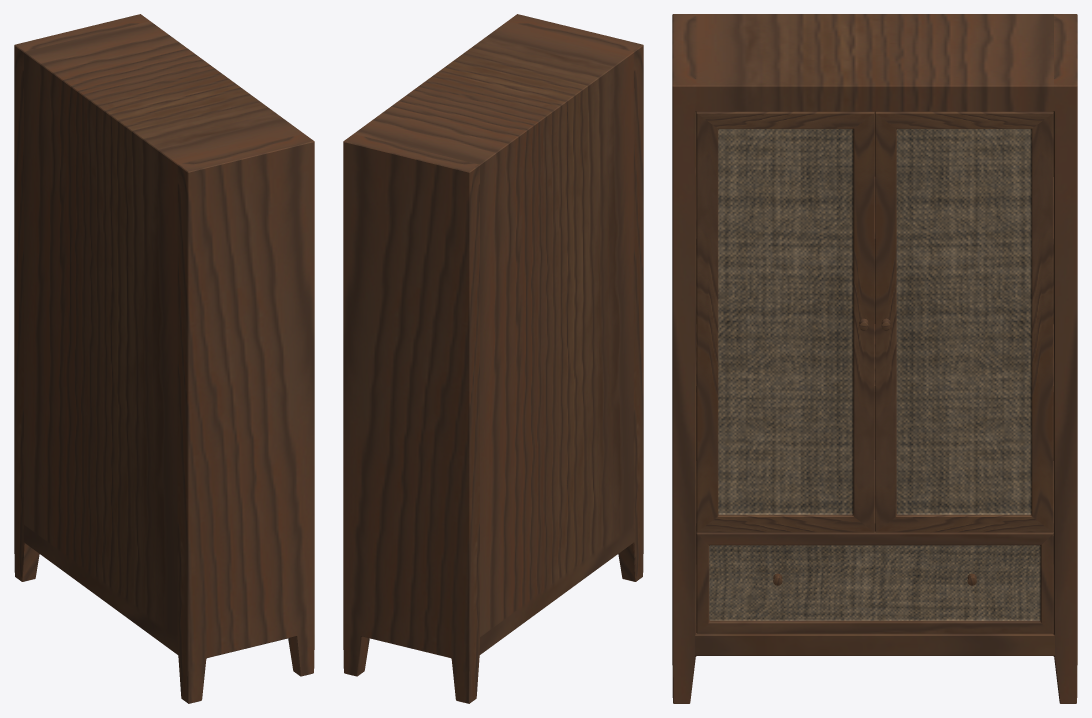
File: wardrobe2.glb
3 views of the same model, side by side, from view 1: azimuth 30°, elevation 25°; view 2: azimuth 150°, elevation 25°; view 3: azimuth 270°, elevation 25° (orthographic). The views are drawn at different scales.
Parts seen in each view (by area): view 1: Cube.038; view 2: Cube.038; view 3: Cube.038.
Boxes of the visible parts, box(x1,y1,x2,y2) form: Cube.038: box(14, 14, 314, 703); Cube.038: box(343, 14, 643, 703); Cube.038: box(672, 14, 1077, 703).
Bounding box in the file's own units: 0.52 × 1.97 × 1.17.
Materials: 1 (1 with a texture image).
